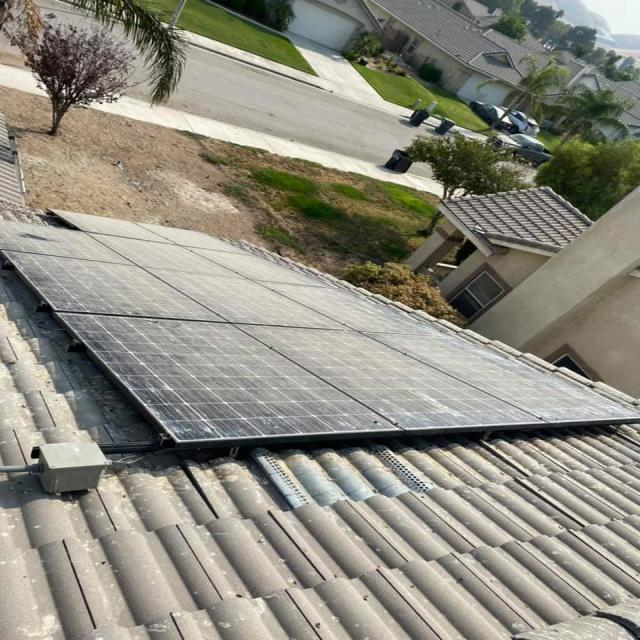dust-solar-panel: (1, 208, 639, 448)
